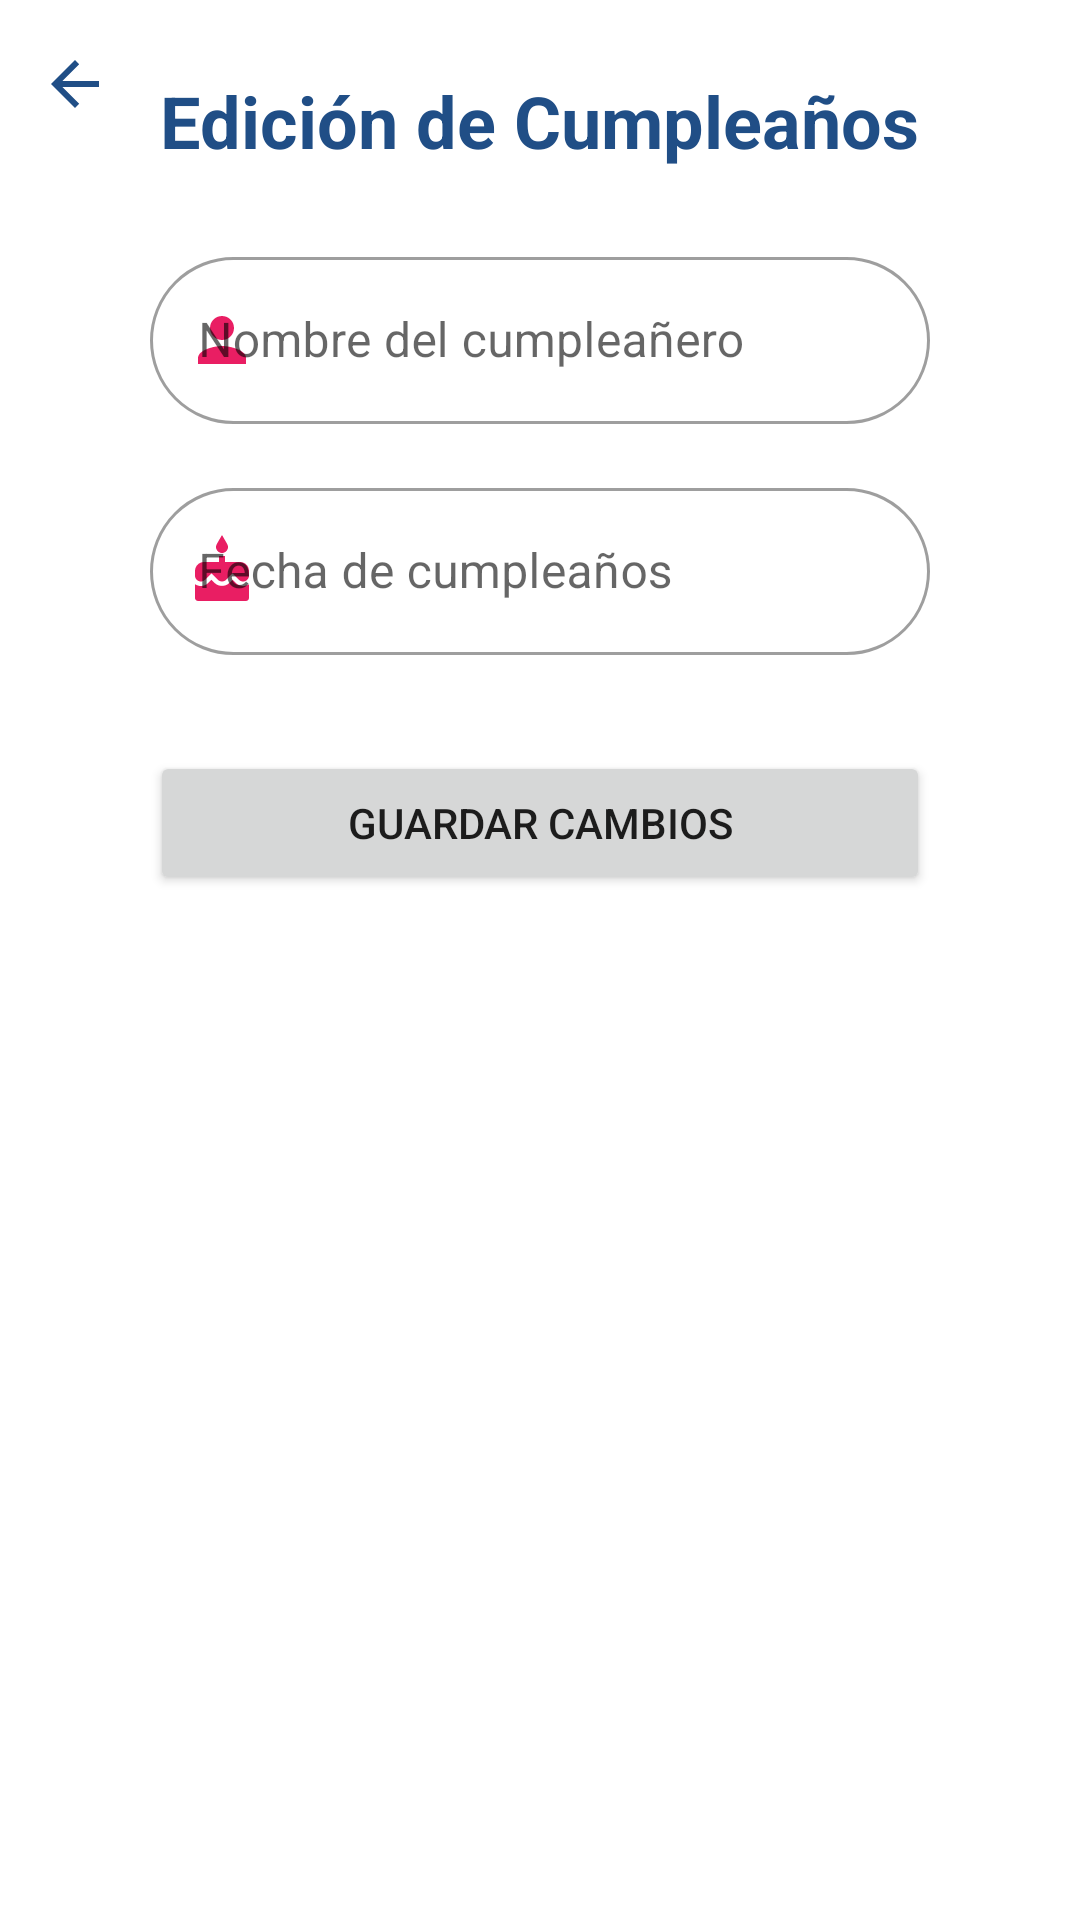

Locate icon controls on the screen. Image size 1080*1920, boxes as bbox=(x1, y1, x2, y2).
image button volver: bbox=(51, 60, 99, 108)
